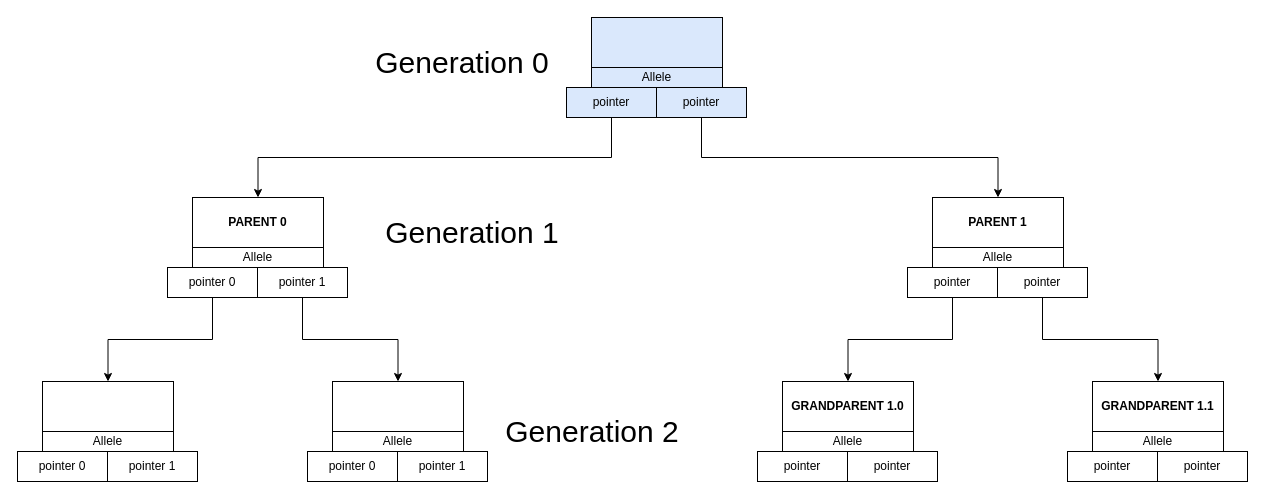
Some shapes in this 1265 by 499 pixel diagram are drawn without their labels. The shapes that lost their labels are listed below. From the top down, each one's centre as x and y in pixels, then its label:
At point (656, 42): "PERSON".
At point (108, 406): "GRANDPARENT 0.0".
At point (398, 406): "GRANDPARENT 0.1".
